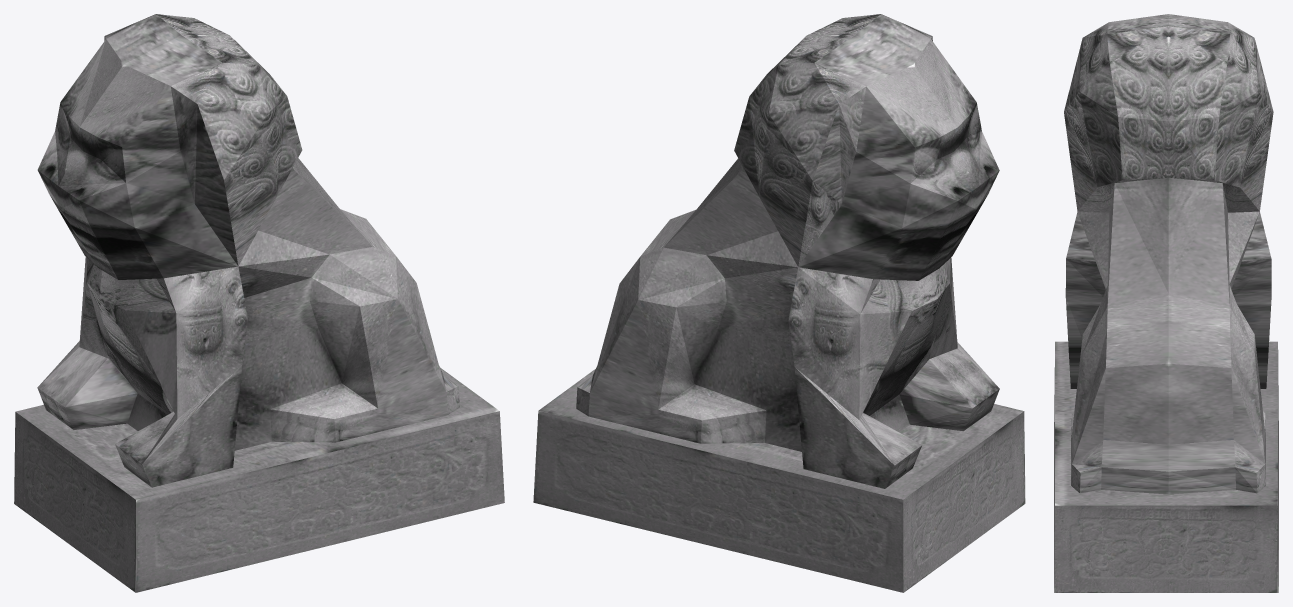
Rendered from vgschinalion1.obj.
3 renders of one model, left to right at view 1: azimuth 30°, elevation 25°; view 2: azimuth 150°, elevation 25°; view 3: azimuth 270°, elevation 25°, orthographic. The views are drawn at different scales.
Visible parts, largest first — view 1: vgschinalion1; view 2: vgschinalion1; view 3: vgschinalion1.
Part boxes in pixels (<box>): vgschinalion1: <box>14,14,504,592</box>; vgschinalion1: <box>533,14,1025,592</box>; vgschinalion1: <box>1054,14,1278,592</box>.
Size of the model in its own units: 2.12 by 2.56 by 1.16.
1 material, 1 textured.
